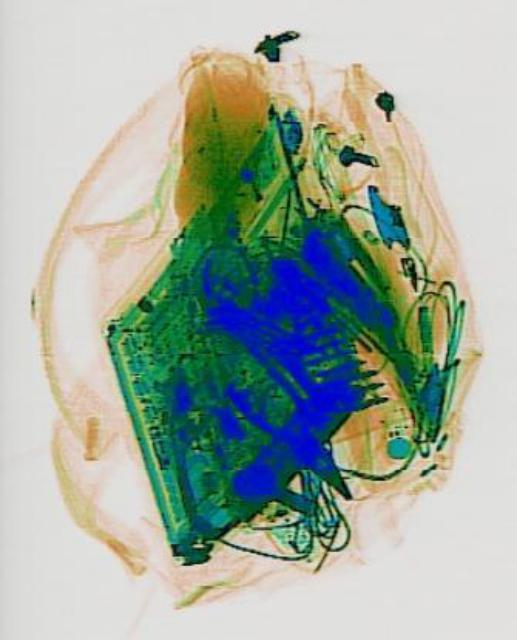Pliers: (219, 347, 368, 519)
